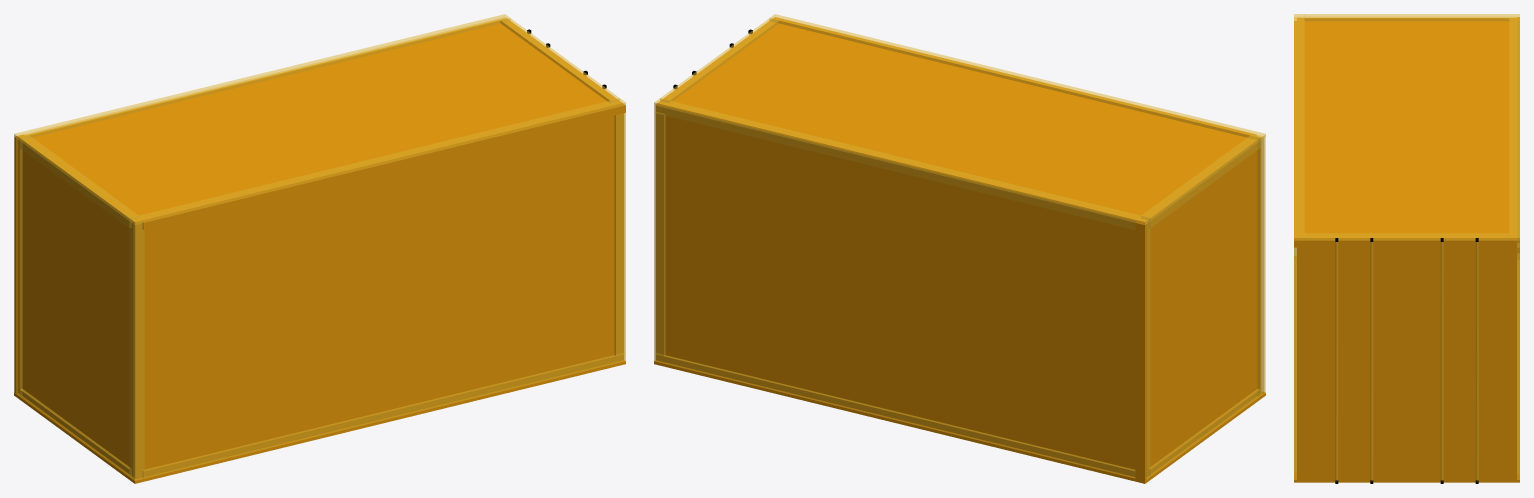
The model's file is Container.glb.
The picture shows the model from 3 angles, left to right: view 1: azimuth 30°, elevation 25°; view 2: azimuth 150°, elevation 25°; view 3: azimuth 270°, elevation 25°; orthographic projection. The views are drawn at different scales.
Parts seen in each view (by area): view 1: Root; view 2: Root; view 3: Root.
Boxes of the visible parts, x1,y1,x2,y2 form: Root: (14, 14, 625, 483); Root: (654, 14, 1265, 483); Root: (1294, 14, 1519, 483).
Size of the model in its own units: 3.52 by 1.78 by 1.49.
